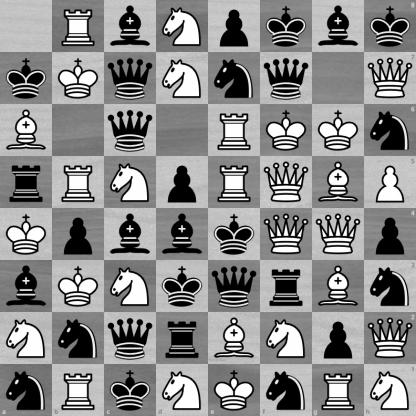B: (1, 105, 52, 156), (209, 313, 260, 364), (313, 157, 364, 208), (313, 261, 364, 312)
K: (209, 364, 260, 416), (1, 209, 52, 260), (53, 53, 104, 104), (53, 261, 104, 312), (261, 105, 312, 156), (313, 105, 364, 156)
N: (156, 364, 209, 416), (364, 364, 416, 416), (1, 313, 52, 364), (105, 157, 156, 208), (105, 261, 156, 312), (157, 1, 208, 52), (157, 53, 208, 104), (261, 313, 312, 364)
P: (364, 156, 416, 209)
Q: (364, 52, 416, 104), (364, 312, 416, 364), (261, 157, 312, 208), (261, 209, 312, 260), (313, 209, 364, 260)
R: (52, 364, 104, 416), (312, 364, 364, 416), (53, 1, 104, 52), (53, 157, 104, 208), (209, 105, 260, 156), (209, 157, 260, 208)
b: (1, 261, 52, 312), (105, 1, 156, 52), (105, 209, 156, 260), (157, 209, 208, 260), (313, 1, 364, 52)
board: (0, 0, 415, 415)
k: (104, 364, 156, 416), (364, 0, 416, 52), (1, 53, 52, 104), (157, 261, 208, 312), (209, 209, 260, 260), (261, 1, 312, 52)
n: (0, 364, 52, 416), (260, 364, 312, 416), (364, 104, 416, 156), (364, 260, 416, 312), (53, 313, 104, 364), (209, 53, 260, 104)
p: (364, 209, 416, 260), (53, 209, 104, 260), (157, 157, 208, 208), (209, 1, 260, 52), (313, 313, 364, 364)
q: (105, 53, 156, 104), (105, 105, 156, 156), (105, 313, 156, 364), (209, 261, 260, 312), (261, 53, 312, 104)
r: (1, 157, 52, 208), (157, 313, 208, 364), (261, 261, 312, 312)
